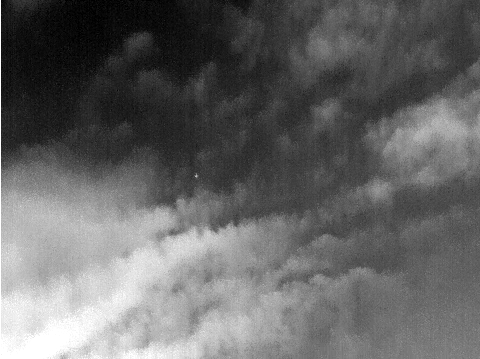dim target: (194, 173, 199, 178)
